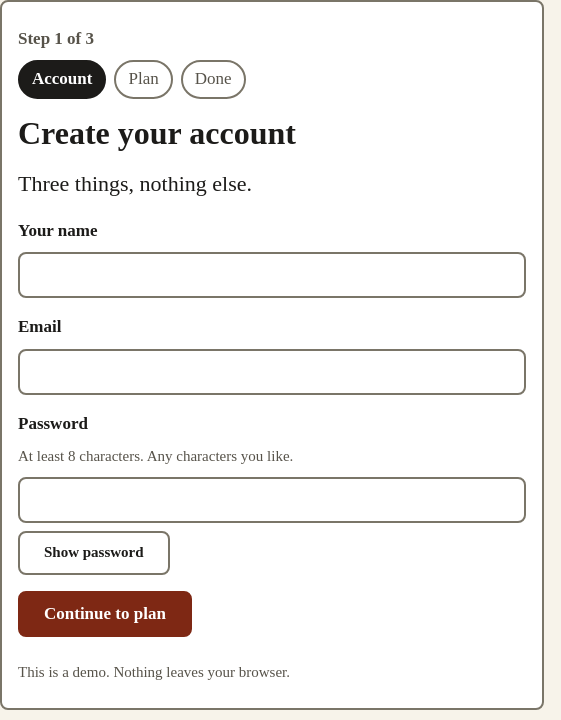
Test: account step › the password can be shown and hidden
The image size is (561, 720).
Click the button "Show password": click(94, 553) [18,531,170,575]
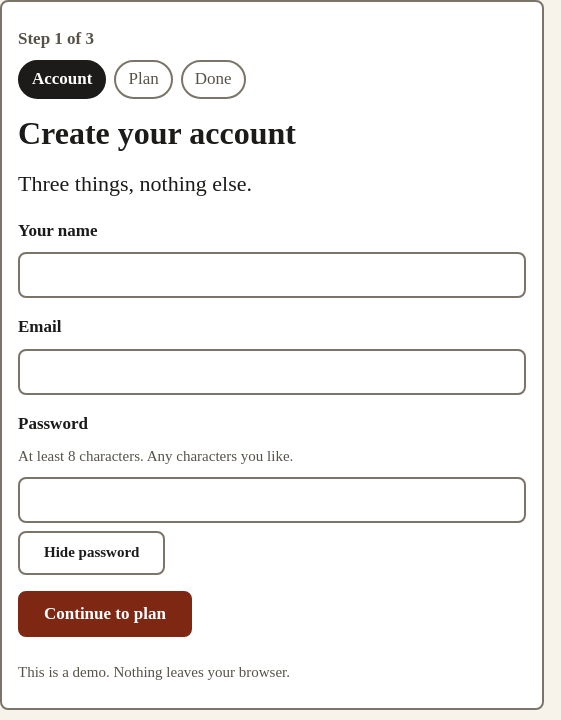
Result: the button "Hide password" is shown at [18,531,165,575]
